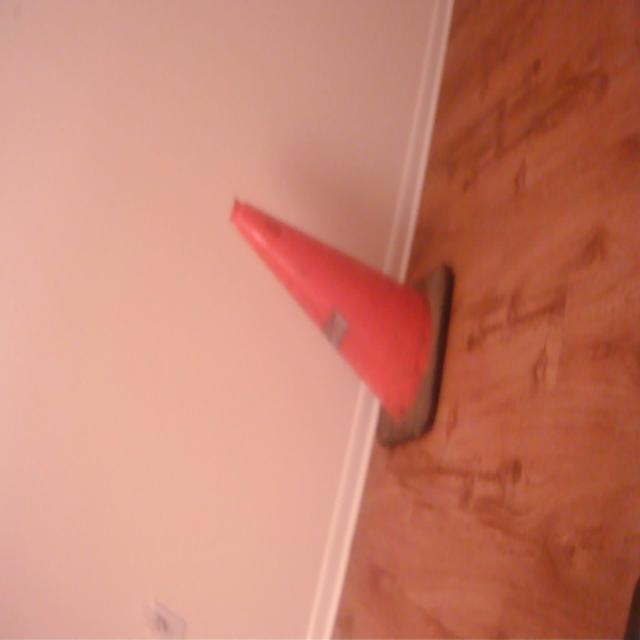traffic cone: (229, 194, 458, 451)
